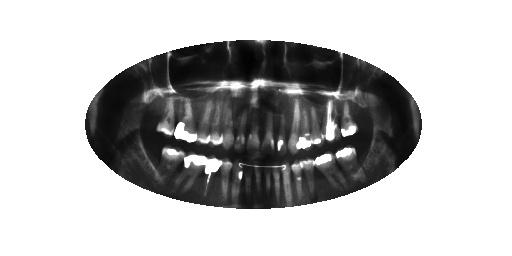fractura: (175, 152, 206, 195), (336, 145, 368, 185), (314, 152, 343, 195), (175, 97, 199, 144), (339, 105, 360, 138), (296, 109, 312, 152), (275, 112, 288, 157), (310, 107, 324, 144)
otra: (203, 156, 223, 198), (323, 98, 338, 144)
